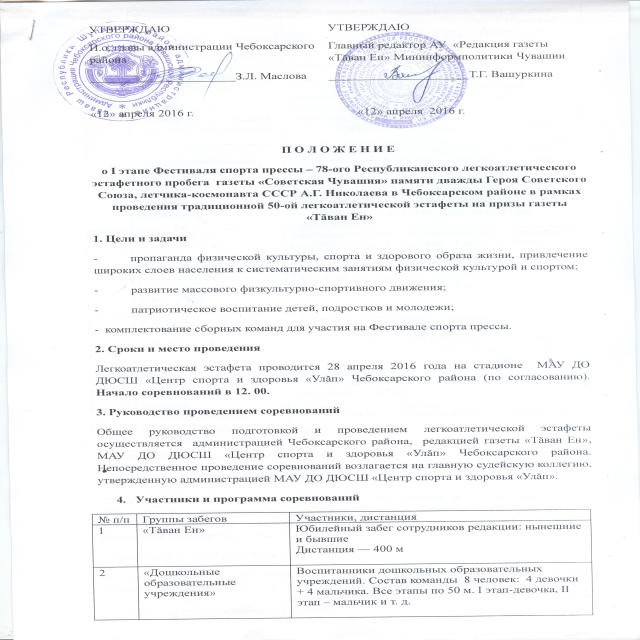stamps: (34, 9, 288, 134), (314, 16, 560, 144)
